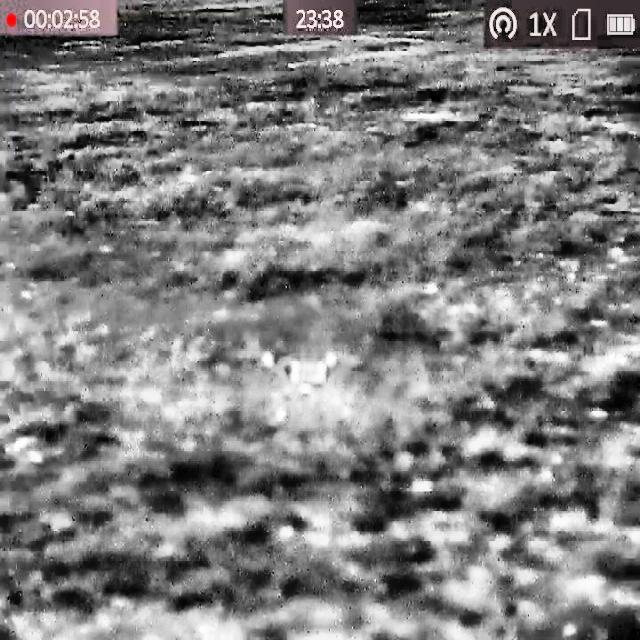drone: (258, 328, 356, 427)
